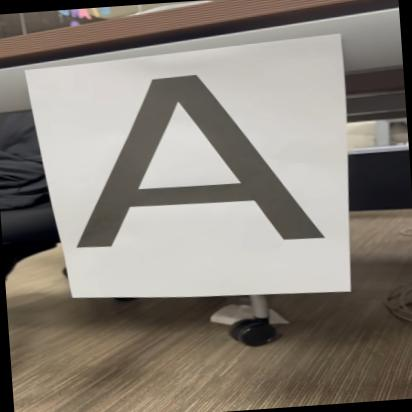seat: (56, 57, 332, 261)
